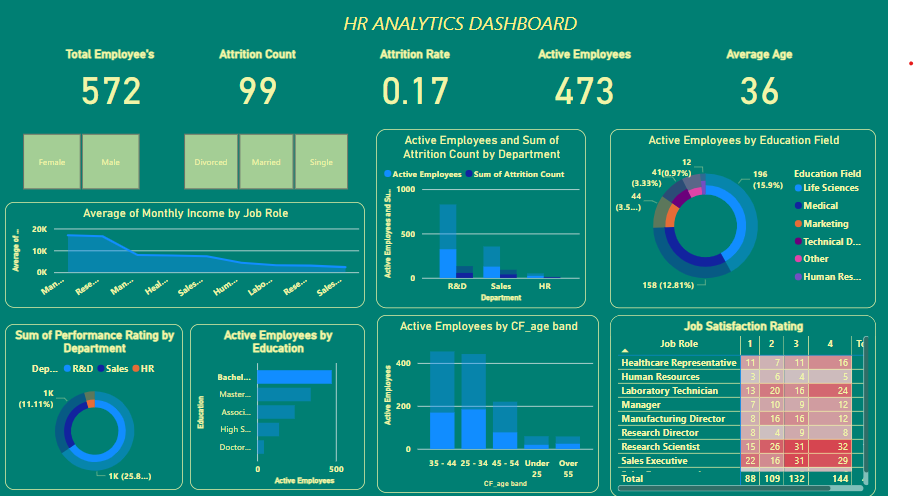

The page's visual inventory and layout, read from the dashboard file:
{"tool":"powerbi","page":{"name":"Page 1","canvas":[1280,720],"ordinal":0},"visuals":[{"type":"card","title":"Total Employee''s","fields":{"Values":["Sum(HR data.Employee Count)"]},"box":[71.4,72.9,182.9,91.4],"z":0},{"type":"card","title":"Attrition Count","fields":{"Values":["Sum(HR data.Attrition Count)"]},"box":[287.1,72.9,172.9,91.4],"z":1},{"type":"card","title":"Attrition Rate","fields":{"Values":["HR data.Attrition Rate"]},"box":[504.3,72.9,188.6,91.4],"z":2},{"type":"card","title":"Active Employees","fields":{"Values":["HR data.Active Employees"]},"box":[745.7,72.9,190,91.4],"z":3},{"type":"card","title":"Average Age","fields":{"Values":["Avg(HR data.Age)"]},"box":[992.9,72.9,195.7,91.4],"z":4},{"type":"textbox","box":[287.1,14.3,751.4,47.1],"z":5},{"type":"clusteredColumnChart","fields":{"Y":["HR data.Active Employees","Sum(HR data.Attrition Count)"],"Category":["HR data.Department"]},"box":[542.9,190,300,255.7],"z":6},{"type":"donutChart","fields":{"Y":["HR data.Active Employees"],"Category":["HR data.Education Field"]},"box":[877.1,190,380,255.7],"z":7},{"type":"columnChart","fields":{"Y":["HR data.Active Employees"],"Category":["HR data.CF_age band"]},"box":[544.3,455.7,317.1,254.3],"z":8},{"type":"pivotTable","title":"Job Satisfaction Rating","fields":{"Rows":["HR data.Job Role"],"Values":["HR data.Active Employees"],"Columns":["HR data.Job Satisfaction"]},"box":[877.1,455.7,380,261.4],"z":9},{"type":"donutChart","fields":{"Y":["Sum(HR data.Performance Rating)"],"Category":["HR data.Department"]},"box":[12.9,468.6,254.3,237.1],"z":10},{"type":"clusteredBarChart","fields":{"Y":["HR data.Active Employees"],"Category":["HR data.Education"]},"box":[277.1,468.6,250,237.1],"z":11},{"type":"areaChart","fields":{"Y":["Avg(HR data.Monthly Income)"],"Category":["HR data.Job Role"]},"box":[12.9,294.3,514.3,151.4],"z":12},{"type":"slicer","fields":{"Values":["HR data.Gender"]},"box":[12.9,190,215.7,92.9],"z":13},{"type":"slicer","fields":{"Values":["HR data.Marital Status"]},"box":[242.9,190,284.3,92.9],"z":14}]}

Visuals, with their boxes on the page's 1280x720 design canvas (x1, y1, x2, y2). These are canvas units, not pixel positions in the 914x496 screenshot, which may show the page scaled, cropped or inside an application window:
"Total Employee''s" card: box=[71, 73, 254, 164]
"Attrition Count" card: box=[287, 73, 460, 164]
"Attrition Rate" card: box=[504, 73, 693, 164]
"Active Employees" card: box=[746, 73, 936, 164]
"Average Age" card: box=[993, 73, 1189, 164]
textbox: box=[287, 14, 1038, 61]
clusteredColumnChart - HR data.Active Employees x Sum(HR data.Attrition Count): box=[543, 190, 843, 446]
donutChart - HR data.Active Employees x HR data.Education Field: box=[877, 190, 1257, 446]
columnChart - HR data.Active Employees x HR data.CF_age band: box=[544, 456, 861, 710]
"Job Satisfaction Rating" pivotTable: box=[877, 456, 1257, 717]
donutChart - Sum(HR data.Performance Rating) x HR data.Department: box=[13, 469, 267, 706]
clusteredBarChart - HR data.Active Employees x HR data.Education: box=[277, 469, 527, 706]
areaChart - Avg(HR data.Monthly Income) x HR data.Job Role: box=[13, 294, 527, 446]
slicer - HR data.Gender: box=[13, 190, 229, 283]
slicer - HR data.Marital Status: box=[243, 190, 527, 283]
